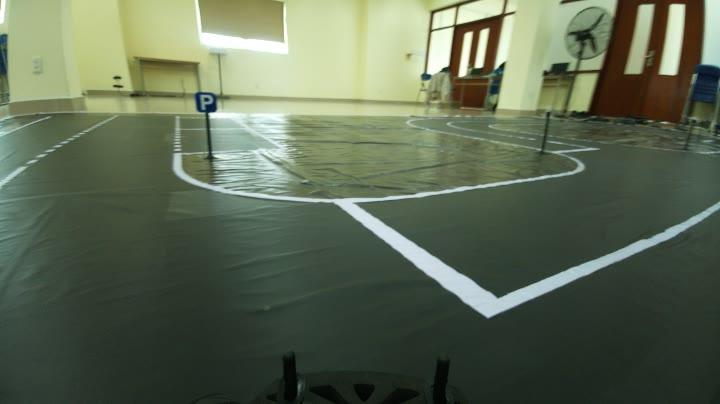parking: (188, 90, 218, 114)
